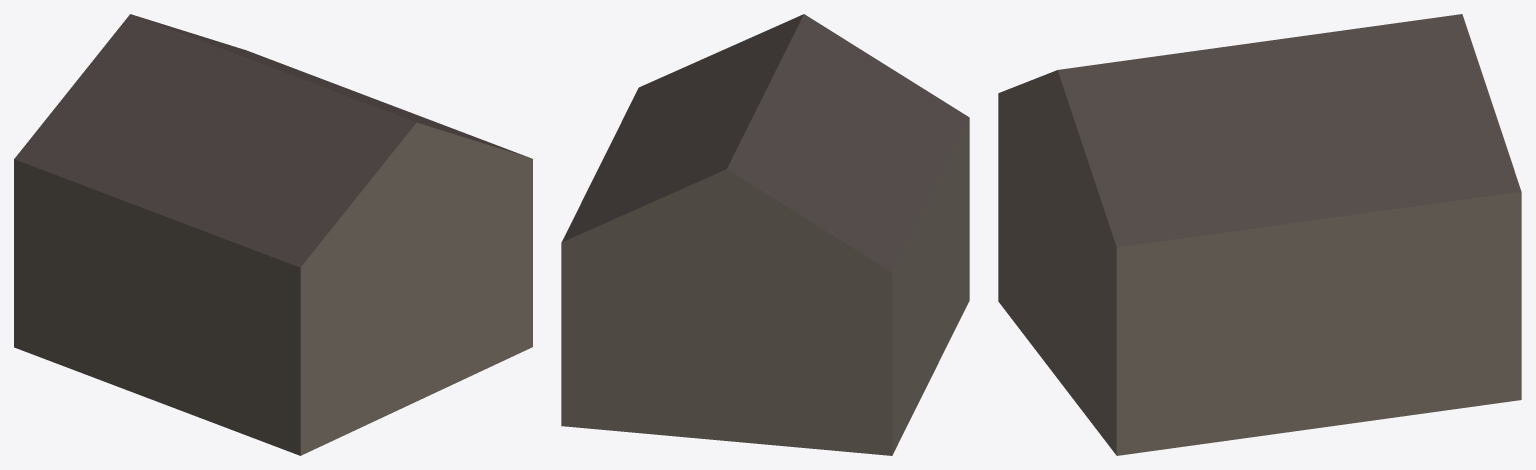
3 views of the same model, side by side, from view 1: azimuth 30°, elevation 25°; view 2: azimuth 150°, elevation 25°; view 3: azimuth 270°, elevation 25° (orthographic). The views are drawn at different scales.
Parts seen in each view (by area): view 1: HP-w369317507; view 2: HP-w369317507; view 3: HP-w369317507.
Boxes of the visible parts, left/top/right/bottom form: HP-w369317507: left=14, top=14, right=532, bottom=455; HP-w369317507: left=561, top=14, right=969, bottom=455; HP-w369317507: left=998, top=14, right=1521, bottom=455.
Size of the model in its own units: 19.49 by 13.34 by 20.48.
